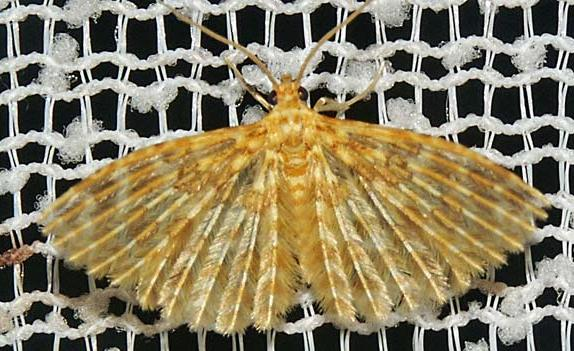Alucitidae: (42, 5, 555, 341)
moth: (40, 3, 553, 339)
